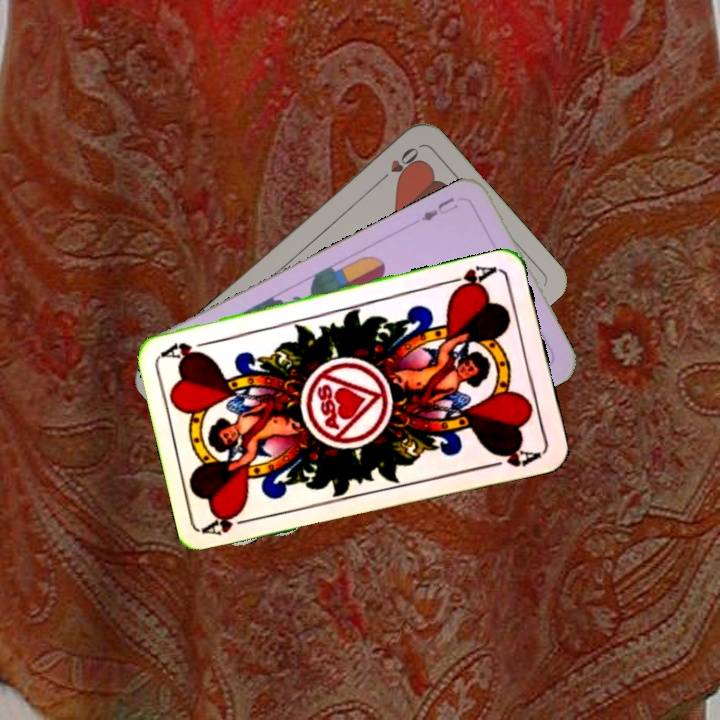EU: (417, 193, 461, 224)
HA: (442, 261, 500, 296), (201, 508, 261, 538)
HO: (374, 143, 421, 186)
